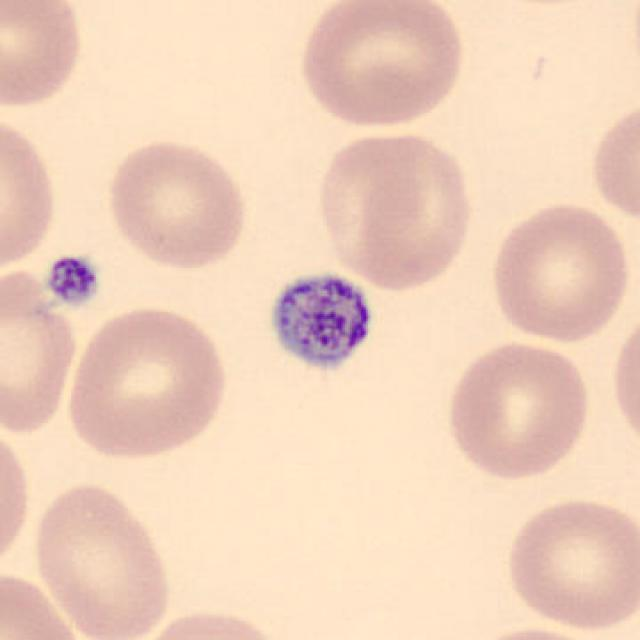Platelets: (263, 266, 379, 378), (41, 252, 103, 310)
RBC: (311, 125, 478, 293), (60, 302, 233, 464), (28, 478, 178, 640), (294, 0, 470, 132), (441, 337, 595, 483), (485, 198, 633, 346), (101, 134, 252, 273), (502, 492, 638, 633), (0, 261, 80, 441), (0, 109, 62, 275), (0, 0, 87, 111), (586, 95, 640, 225), (0, 567, 89, 640), (124, 604, 293, 640), (0, 420, 34, 578), (606, 307, 640, 458)
